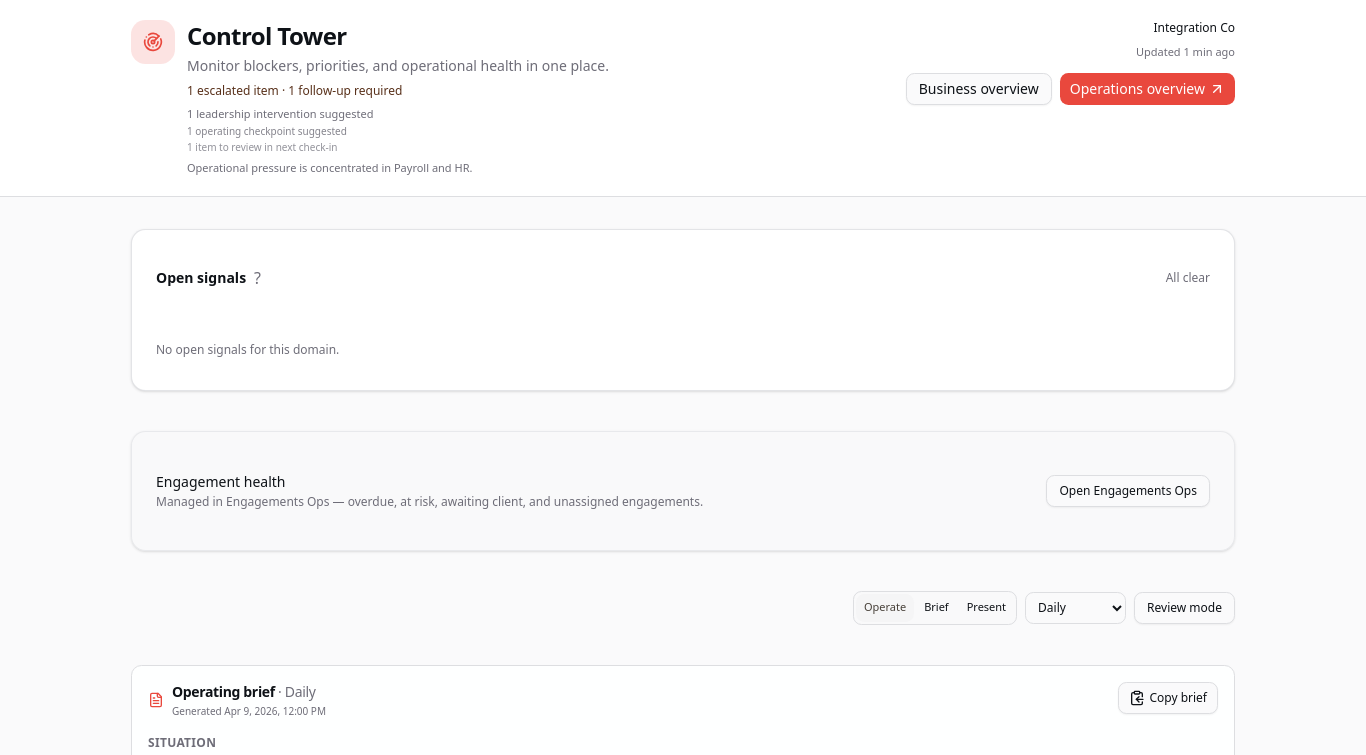
Test case: ControlTowerPage integration (composition) › present mode hides queue, KPI snapshot, footer, and priorities while keeping the executive stack
Click the button "Present".
click(986, 608)  # box [959,594,1014,622]
(page scrolled)
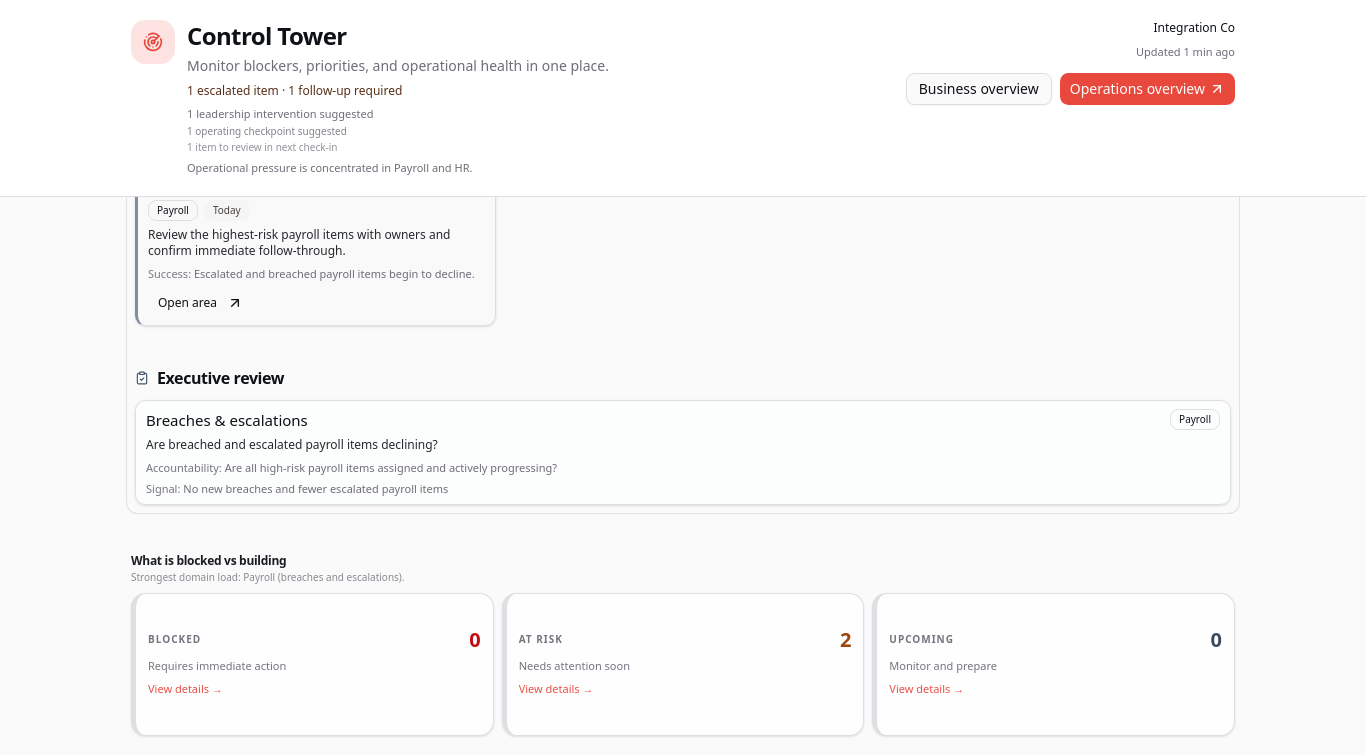
Expected: the element "Executive commitments" is shown, [135,127,496,326]
Expected: the heading "Executive review" is shown, [157,366,284,390]
